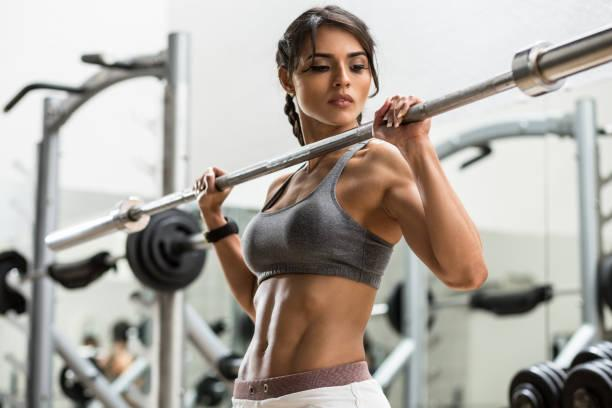Pessoa: (214, 95, 486, 407), (99, 320, 134, 380)
